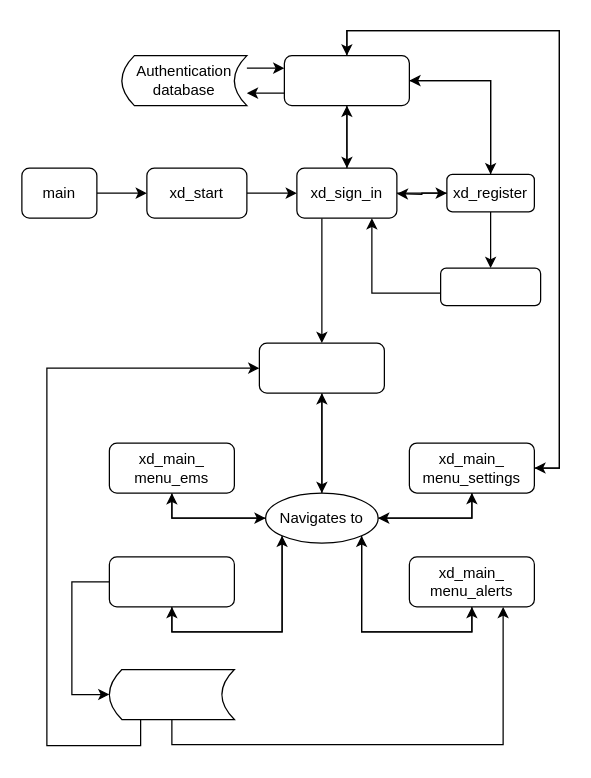
This 591x778 diagram has some shape labels left out. The centre of each missing label's shape, as x and y in pixels:
access_services: [346,80]
Firestore database: [171,694]
xd_main_ menu_map: [321,367]
xd_main_ menu_report: [171,581]
xd_sign_up_ transition: [490,286]
